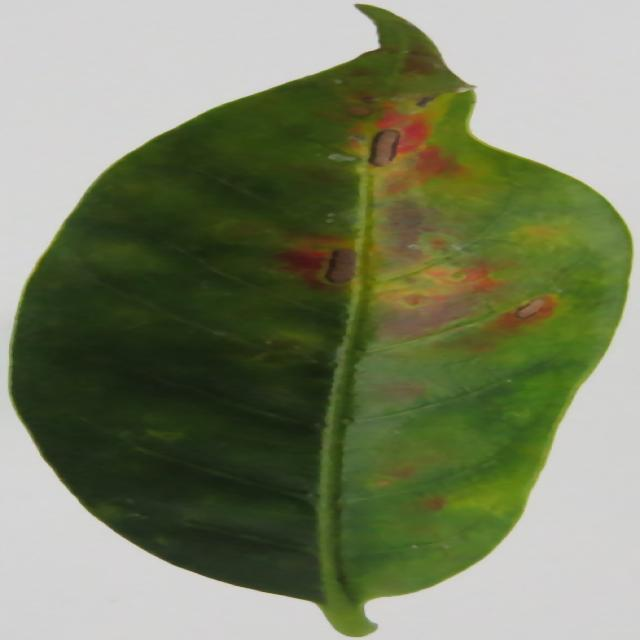DeficienciaNutricional-Fosforo: (12, 5, 630, 634)
